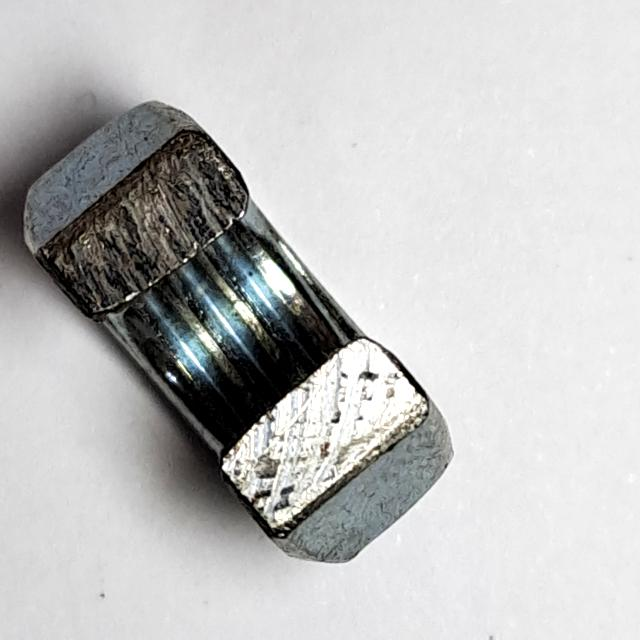Side-Fracture: (15, 92, 482, 580)
